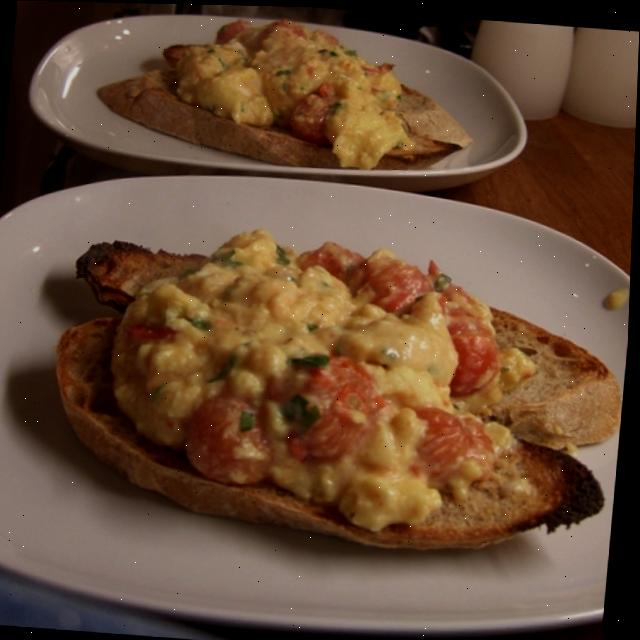鸡蛋料理: (67, 1, 640, 573)
